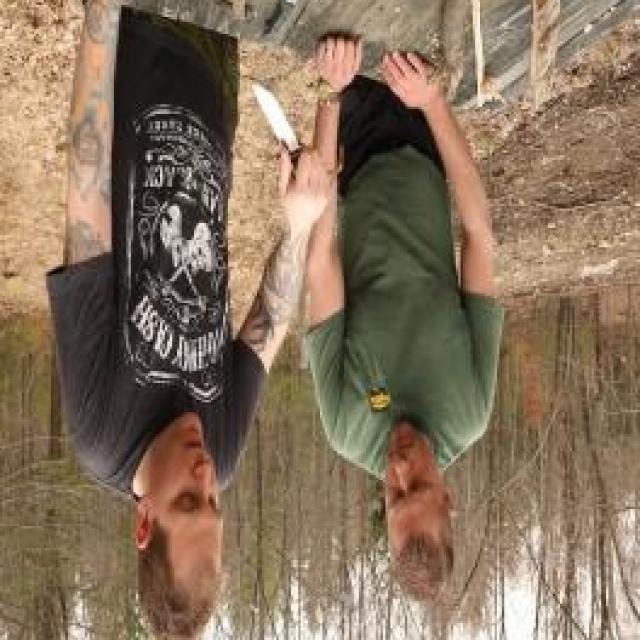knife: (243, 65, 329, 214)
